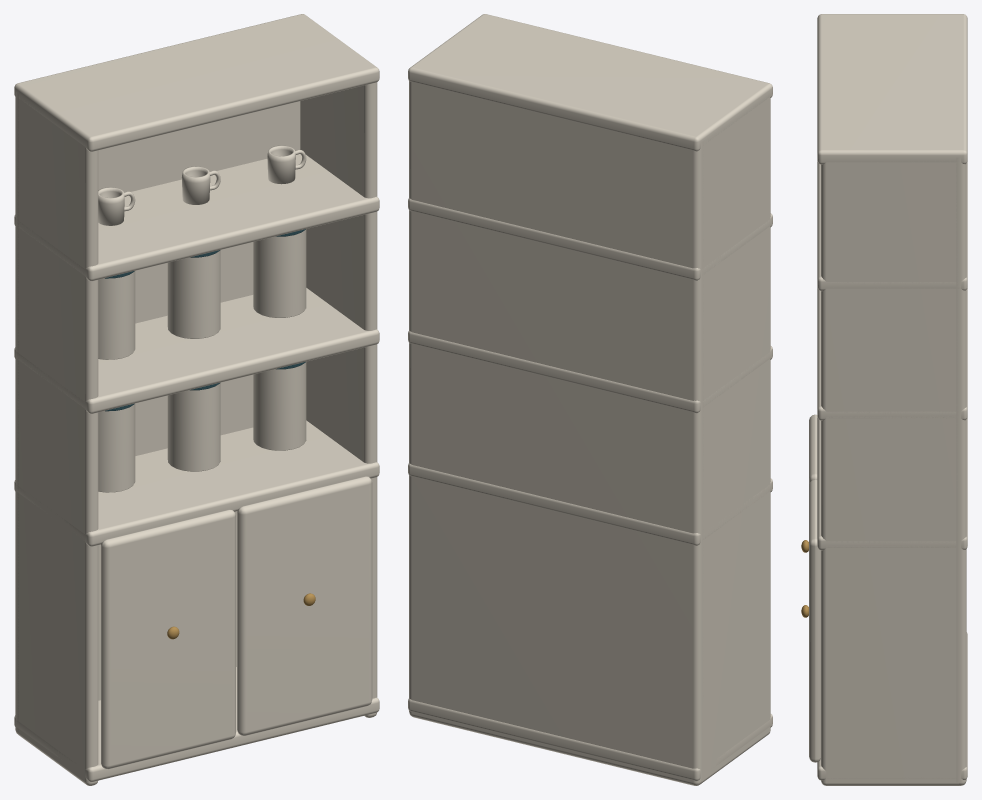
The model's file is ce_shelf.glb.
3 views of the same model, side by side, from view 1: azimuth 30°, elevation 25°; view 2: azimuth 150°, elevation 25°; view 3: azimuth 270°, elevation 25° (orthographic). The views are drawn at different scales.
Parts seen in each view (by area): view 1: prop; view 2: prop; view 3: prop.
Part boxes in pixels (x1,y1,x2,y2): prop: (14,14,379,785); prop: (408,14,772,785); prop: (801,14,967,785).
Size of the model in its own units: 0.92 by 1.96 by 0.465.
